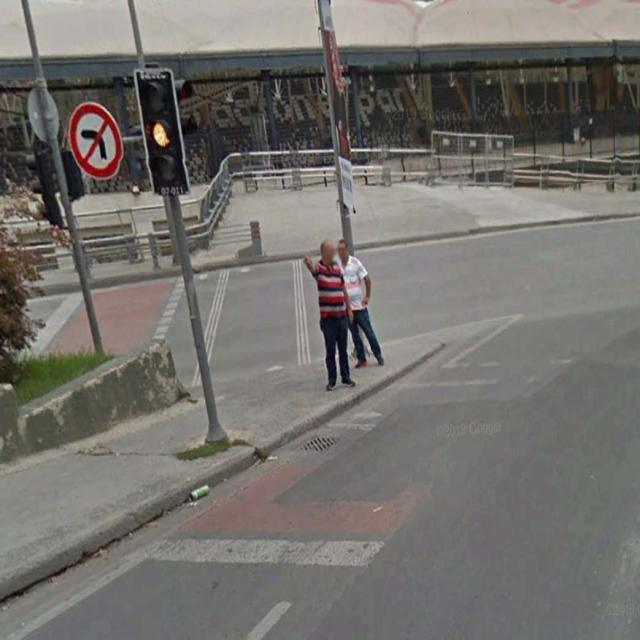sari: (132, 68, 188, 196)
soladonulmez: (69, 100, 123, 180)
